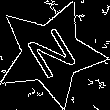N_SE: (19, 21, 82, 86)
